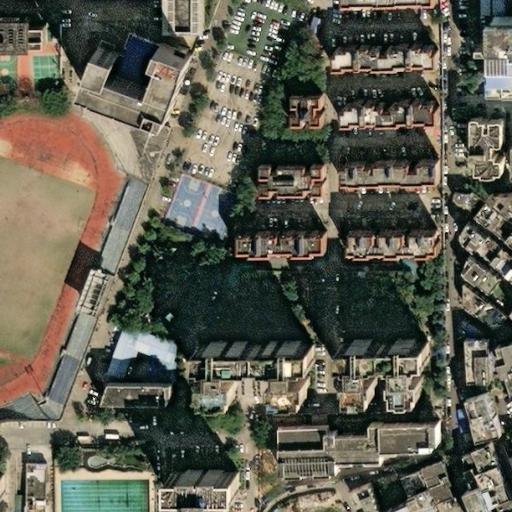building: (75, 48, 184, 125), (260, 418, 424, 468), (196, 339, 314, 398), (91, 172, 150, 274), (337, 337, 423, 398), (162, 471, 234, 512), (328, 47, 435, 70), (474, 19, 512, 81), (333, 161, 434, 184), (344, 230, 432, 255), (67, 267, 110, 318), (249, 162, 320, 192), (113, 38, 155, 88), (0, 14, 33, 77), (337, 104, 434, 125), (229, 231, 320, 253), (473, 400, 512, 445), (465, 122, 496, 175), (99, 331, 132, 380), (128, 332, 174, 363), (99, 382, 165, 403), (470, 204, 508, 240), (407, 457, 439, 499), (287, 96, 321, 125), (467, 444, 495, 475), (485, 340, 512, 371), (347, 484, 376, 512), (469, 235, 498, 263), (19, 463, 40, 500), (397, 485, 425, 512), (486, 248, 512, 277), (474, 0, 512, 19), (389, 466, 415, 493), (474, 305, 500, 331), (488, 367, 512, 395), (142, 352, 164, 382), (457, 193, 482, 218), (480, 467, 503, 493), (459, 260, 482, 283), (459, 226, 481, 249), (463, 295, 485, 317), (459, 477, 480, 499), (482, 489, 504, 510), (466, 493, 489, 512), (496, 193, 512, 220), (370, 500, 405, 512), (471, 270, 491, 291), (457, 460, 477, 481), (496, 389, 512, 415), (452, 218, 470, 241), (497, 226, 512, 251), (484, 193, 507, 208), (501, 326, 512, 353), (473, 474, 487, 493), (452, 193, 469, 207), (463, 287, 474, 308), (459, 255, 471, 273), (457, 452, 470, 466), (302, 16, 314, 31), (503, 265, 512, 284), (503, 298, 512, 316), (392, 265, 407, 272), (498, 318, 505, 326)
